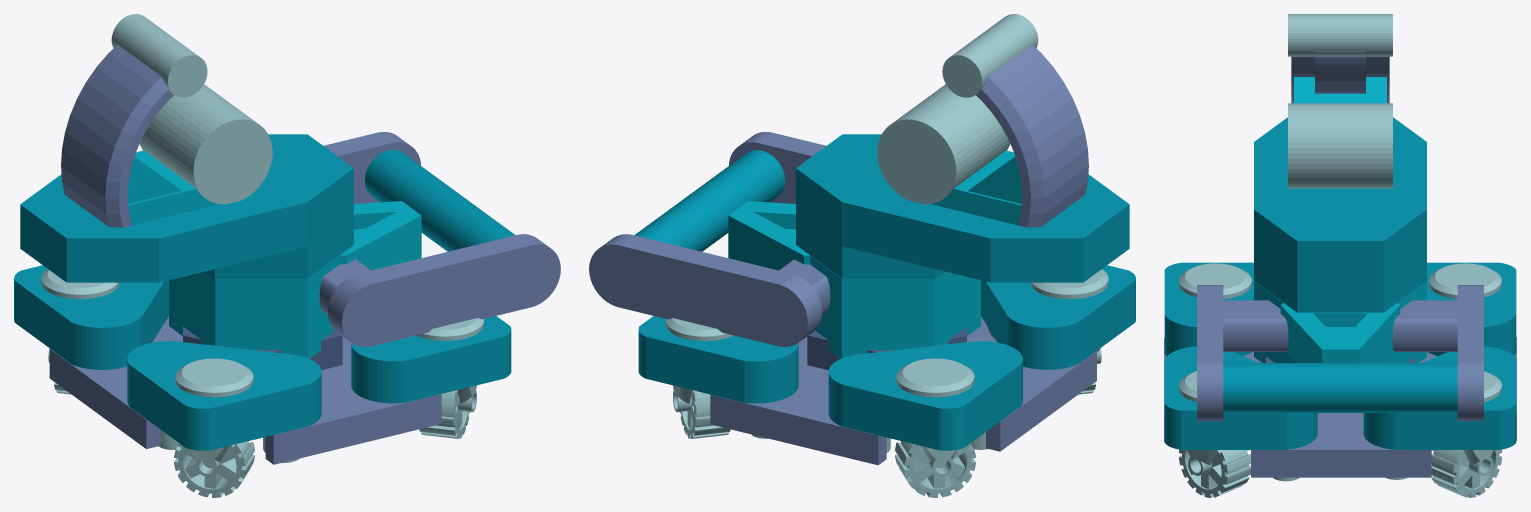
The model's file is bot-swerve-blue-shooter.glb.
The picture shows the model from 3 angles, left to right: view 1: azimuth 30°, elevation 25°; view 2: azimuth 150°, elevation 25°; view 3: azimuth 270°, elevation 25°; orthographic projection. The views are drawn at different scales.
Visible parts, largest first — view 1: Mesh_Mesh_head_geo.001_lambert2SG.001; view 2: Mesh_Mesh_head_geo.001_lambert2SG.001; view 3: Mesh_Mesh_head_geo.001_lambert2SG.001.
Part boxes in pixels (bbox=[...]): Mesh_Mesh_head_geo.001_lambert2SG.001: bbox=[14, 14, 560, 497]; Mesh_Mesh_head_geo.001_lambert2SG.001: bbox=[589, 14, 1135, 497]; Mesh_Mesh_head_geo.001_lambert2SG.001: bbox=[1164, 14, 1516, 497].
Size of the model in its own units: 0.0312 by 0.0273 by 0.0232.
